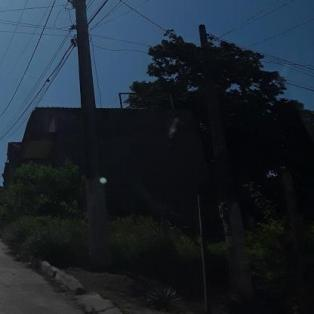Poste: (61, 0, 125, 272)
